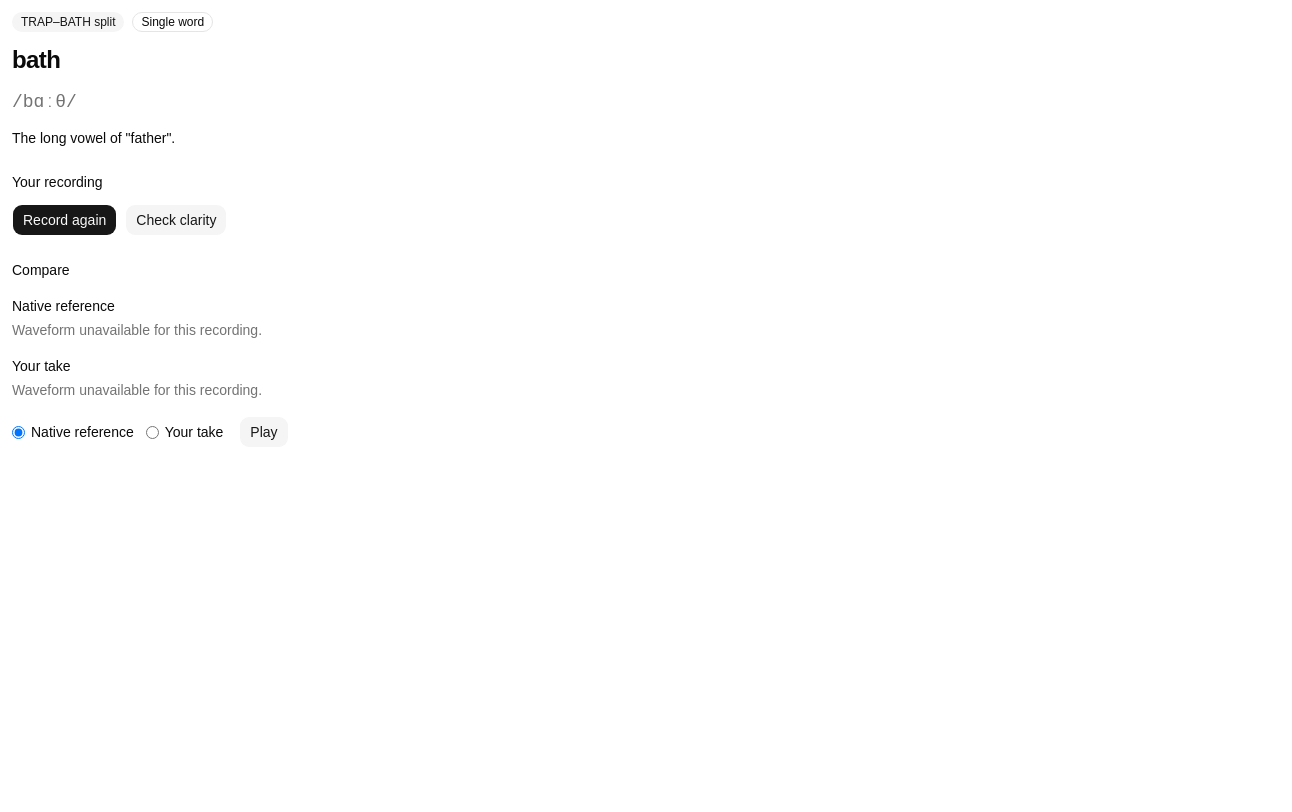
Test case: PracticePanel › captions the score as clarity and says it is not an accent measure
The width and height of the screenshot is (1292, 812).
What coordinates should you click on to do the following:
click the button "Check clarity"
I would click on:
 (176, 220)
Its box is top-left (125, 204), bottom-right (227, 236).
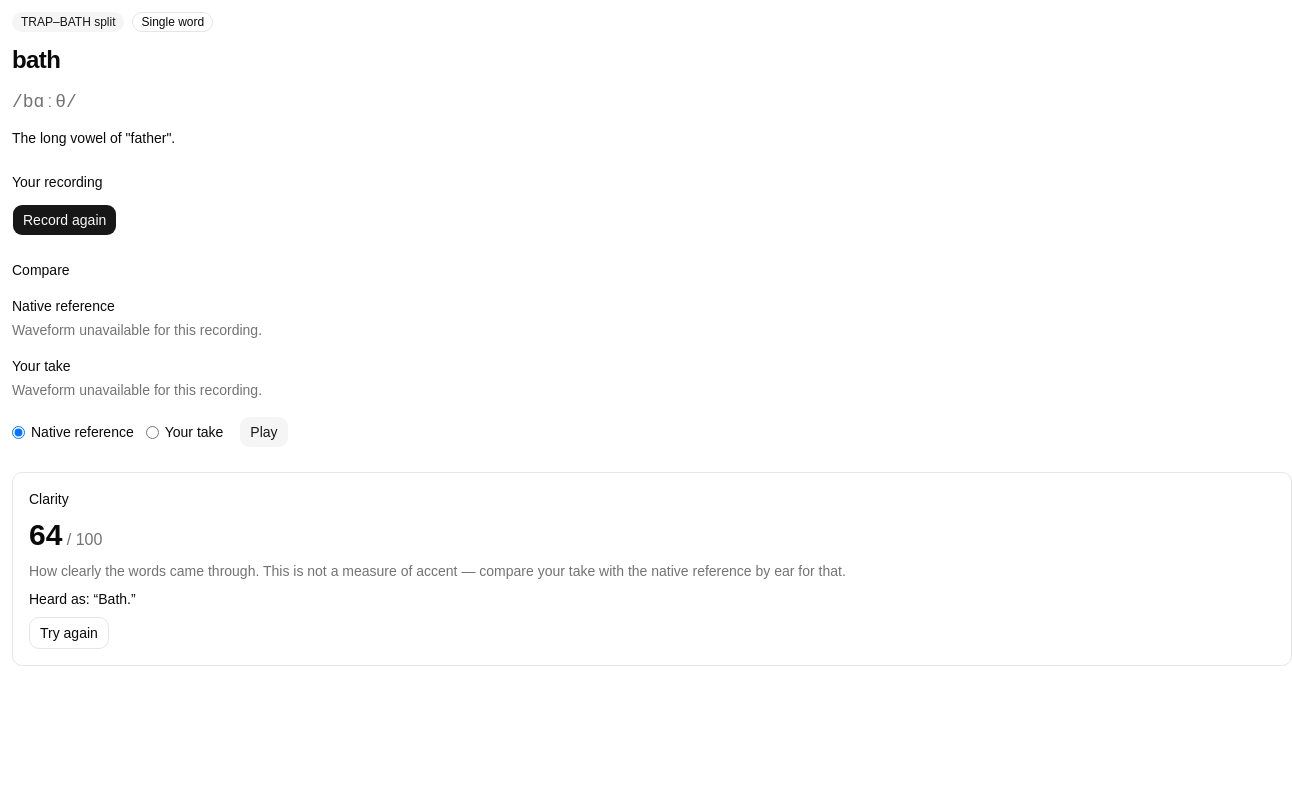
Check: the heading "Clarity" is shown, box top-left (29, 491), bottom-right (69, 507)
Check: the text "64" is shown, box top-left (29, 518), bottom-right (62, 551)
Check: the text "not a measure of accent" is shown, box top-left (29, 563), bottom-right (846, 579)
